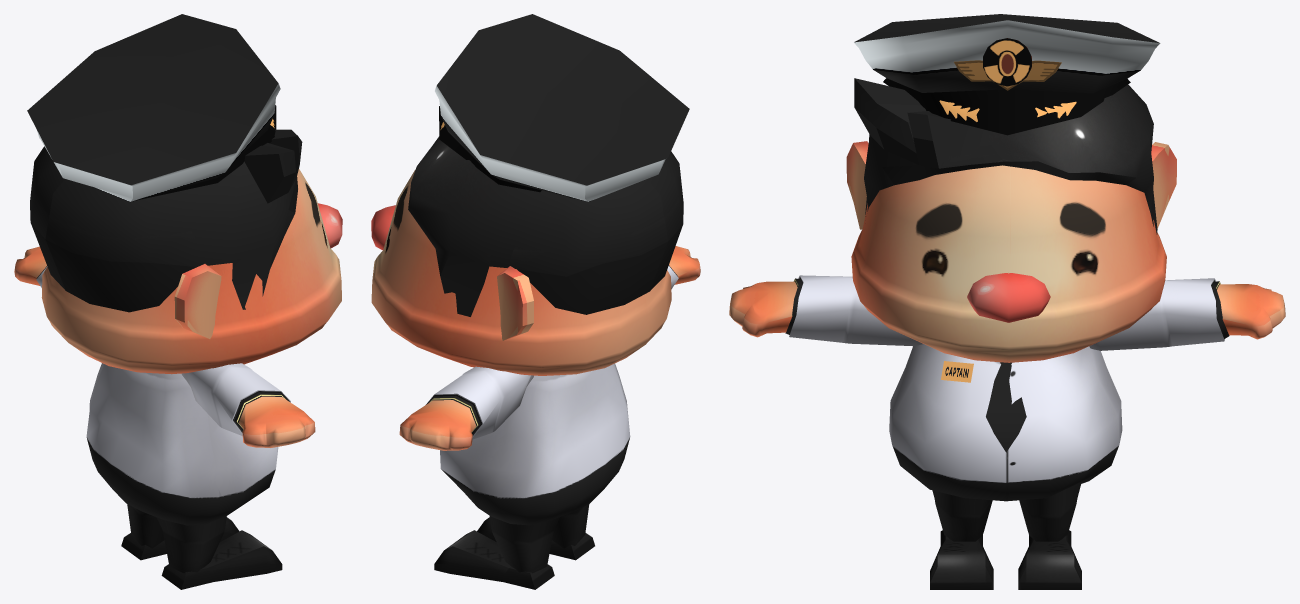
Rendered from Tx_Char_Ser_Tran_05.fbx.
3 renders of one model, left to right at view 1: azimuth 30°, elevation 25°; view 2: azimuth 150°, elevation 25°; view 3: azimuth 270°, elevation 25°, orthographic. The views are drawn at different scales.
Parts seen in each view (by area): view 1: Hat_Captain, Hair_Captain, Head_Captain, Body_Captain, R_Arm_Captain, R_Leg_Captain, R_Ear_Captain, L_Leg_Captain, L_Arm_Captain, Nose_Captain; view 2: Hat_Captain, Hair_Captain, Head_Captain, Body_Captain, L_Arm_Captain, L_Leg_Captain, L_Ear_Captain, R_Leg_Captain, R_Arm_Captain, Nose_Captain; view 3: Head_Captain, Body_Captain, Hat_Captain, Hair_Captain, L_Arm_Captain, R_Arm_Captain, L_Leg_Captain, R_Leg_Captain, Nose_Captain, Tie_Captain, Sticker_Captain, L_Ear_Captain (+1 smaller).
Boxes of the visible parts, x1=… form: Hat_Captain: x1=27, y1=14, x2=280, y2=202; Hair_Captain: x1=30, y1=129, x2=302, y2=312; Head_Captain: x1=41, y1=169, x2=341, y2=374; Body_Captain: x1=86, y1=363, x2=278, y2=525; R_Arm_Captain: x1=181, y1=363, x2=315, y2=447; R_Leg_Captain: x1=156, y1=516, x2=282, y2=589; R_Ear_Captain: x1=174, y1=264, x2=221, y2=338; L_Leg_Captain: x1=121, y1=504, x2=239, y2=560; L_Arm_Captain: x1=14, y1=246, x2=47, y2=287; Nose_Captain: x1=318, y1=203, x2=342, y2=248; Hat_Captain: x1=435, y1=14, x2=689, y2=201; Hair_Captain: x1=408, y1=136, x2=683, y2=316; Head_Captain: x1=371, y1=170, x2=671, y2=375; Body_Captain: x1=440, y1=363, x2=630, y2=525; L_Arm_Captain: x1=399, y1=366, x2=533, y2=450; L_Leg_Captain: x1=434, y1=516, x2=559, y2=589; L_Ear_Captain: x1=497, y1=266, x2=533, y2=340; R_Leg_Captain: x1=477, y1=504, x2=594, y2=560; R_Arm_Captain: x1=667, y1=246, x2=700, y2=289; Nose_Captain: x1=371, y1=205, x2=395, y2=250; Head_Captain: x1=851, y1=165, x2=1166, y2=362; Body_Captain: x1=889, y1=344, x2=1122, y2=501; Hat_Captain: x1=854, y1=14, x2=1160, y2=135; Hair_Captain: x1=854, y1=78, x2=1157, y2=234; L_Arm_Captain: x1=1089, y1=278, x2=1285, y2=350; R_Arm_Captain: x1=729, y1=275, x2=922, y2=346; L_Leg_Captain: x1=1018, y1=484, x2=1081, y2=589; R_Leg_Captain: x1=930, y1=490, x2=993, y2=589; Nose_Captain: x1=967, y1=273, x2=1050, y2=322; Tie_Captain: x1=986, y1=362, x2=1026, y2=452; Sticker_Captain: x1=983, y1=38, x2=1031, y2=86; L_Ear_Captain: x1=1151, y1=142, x2=1176, y2=228.
Bounding box in the file's own units: 5.03 × 8.37 × 7.47.
